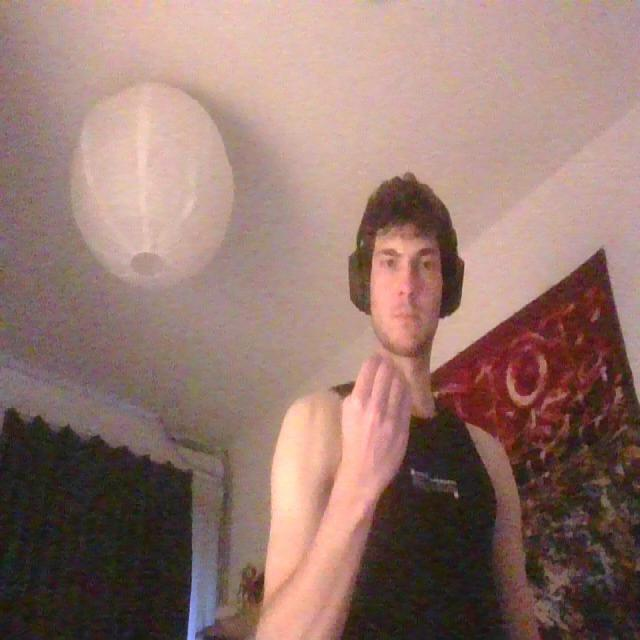forward: (336, 348, 415, 492)
